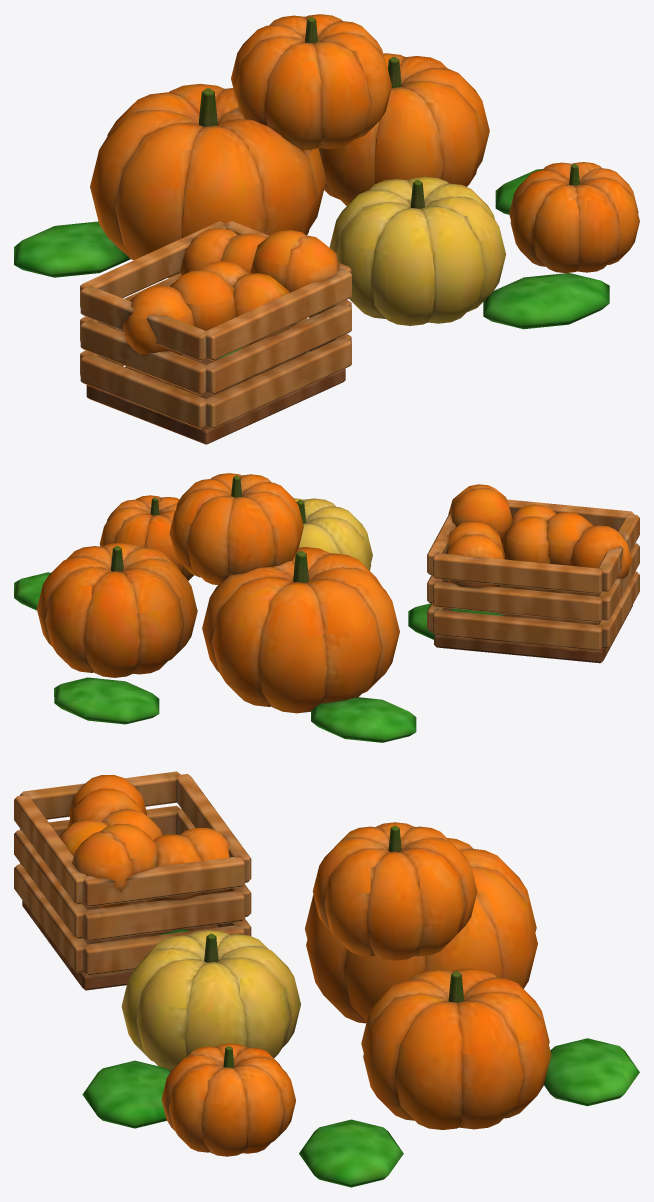
File: pumpkin_pile.glb
3 renders of one model, top to bottom at view 1: azimuth 30°, elevation 25°; view 2: azimuth 150°, elevation 25°; view 3: azimuth 270°, elevation 25°, orthographic. The views are drawn at different scales.
Visible parts, largest first — view 1: pumpkin_pile; view 2: pumpkin_pile; view 3: pumpkin_pile.
Boxes of the visible parts, x1,y1,x2,y2 form: pumpkin_pile: (14,14,639,444); pumpkin_pile: (14,473,639,742); pumpkin_pile: (14,771,639,1187).
Size of the model in its own units: 0.8354 by 0.2905 by 0.7153.
Materials: 1 (1 with a texture image).
